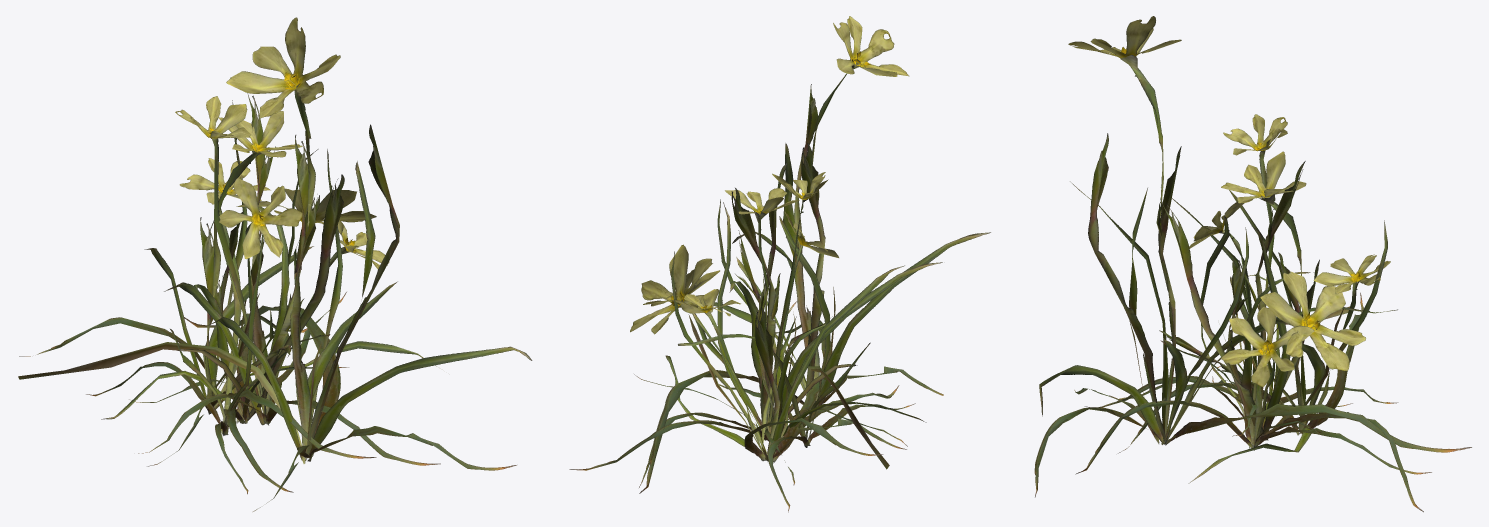
Rendered from empodium.glb.
3 renders of one model, left to right at view 1: azimuth 30°, elevation 25°; view 2: azimuth 150°, elevation 25°; view 3: azimuth 270°, elevation 25°, orthographic. The views are drawn at different scales.
Parts seen in each view (by area): view 1: flower_empodium_a_LOD0, flower_empodium_c_LOD0, flower_empodium_b_LOD0, flower_empodium_d_LOD0, flower_empodium_e_LOD0; view 2: flower_empodium_a_LOD0, flower_empodium_c_LOD0, flower_empodium_b_LOD0, flower_empodium_d_LOD0, flower_empodium_e_LOD0; view 3: flower_empodium_a_LOD0, flower_empodium_b_LOD0, flower_empodium_c_LOD0, flower_empodium_d_LOD0, flower_empodium_e_LOD0.
Boxes of the visible parts, x1,y1,x2,y2 form: flower_empodium_a_LOD0: (18,17,532,511); flower_empodium_c_LOD0: (19,100,436,466); flower_empodium_b_LOD0: (129,93,440,465); flower_empodium_d_LOD0: (101,149,344,492); flower_empodium_e_LOD0: (86,208,349,494); flower_empodium_a_LOD0: (630,16,990,493); flower_empodium_c_LOD0: (665,188,906,462); flower_empodium_b_LOD0: (634,172,942,487); flower_empodium_d_LOD0: (569,163,926,470); flower_empodium_e_LOD0: (678,216,915,512); flower_empodium_a_LOD0: (1034,16,1471,497); flower_empodium_b_LOD0: (1075,114,1431,474); flower_empodium_c_LOD0: (1118,151,1390,483); flower_empodium_d_LOD0: (1084,198,1423,512); flower_empodium_e_LOD0: (1109,216,1398,436).
Size of the model in its own units: 0.2173 by 0.2671 by 0.2508.
Materials: 1 (1 with a texture image).
